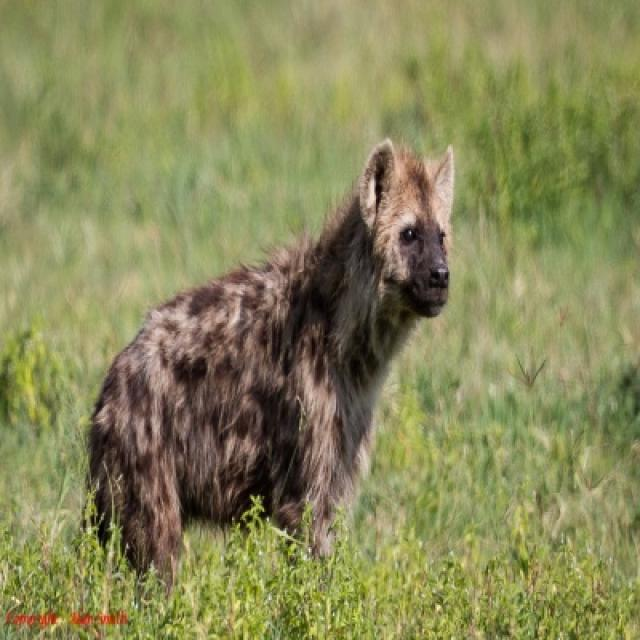hyena: (86, 139, 454, 594)
